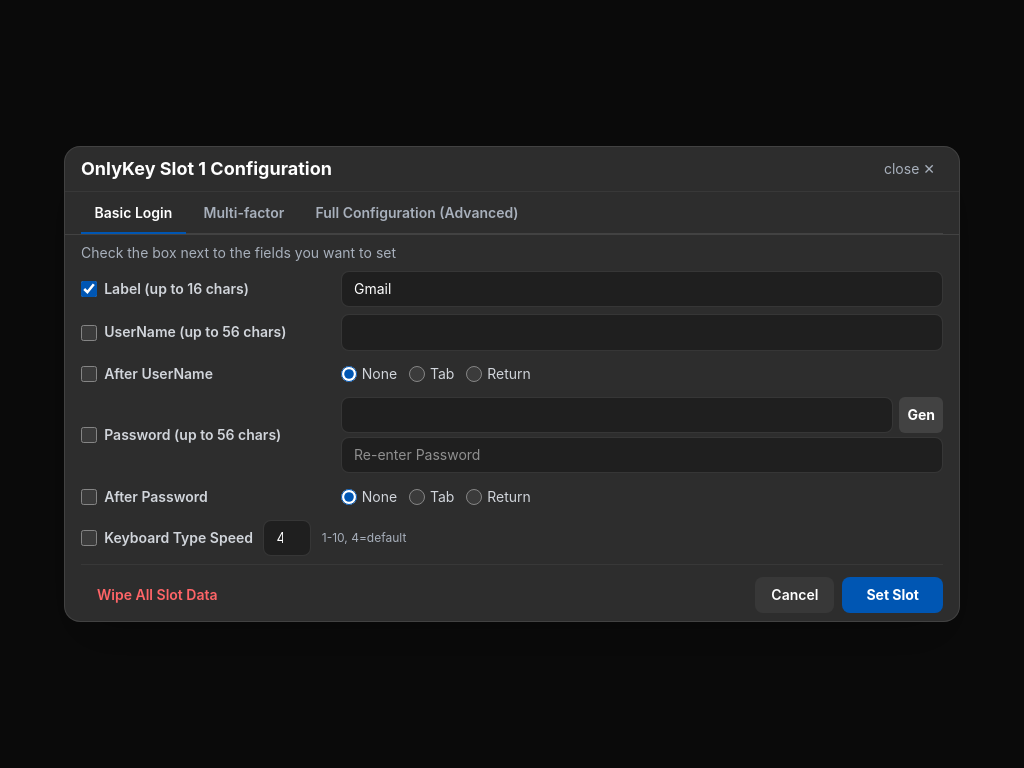
Test: SlotEditor › shows a save error and keeps the editor open
Click the button "Set Slot": (893, 595) [842,577,943,613]
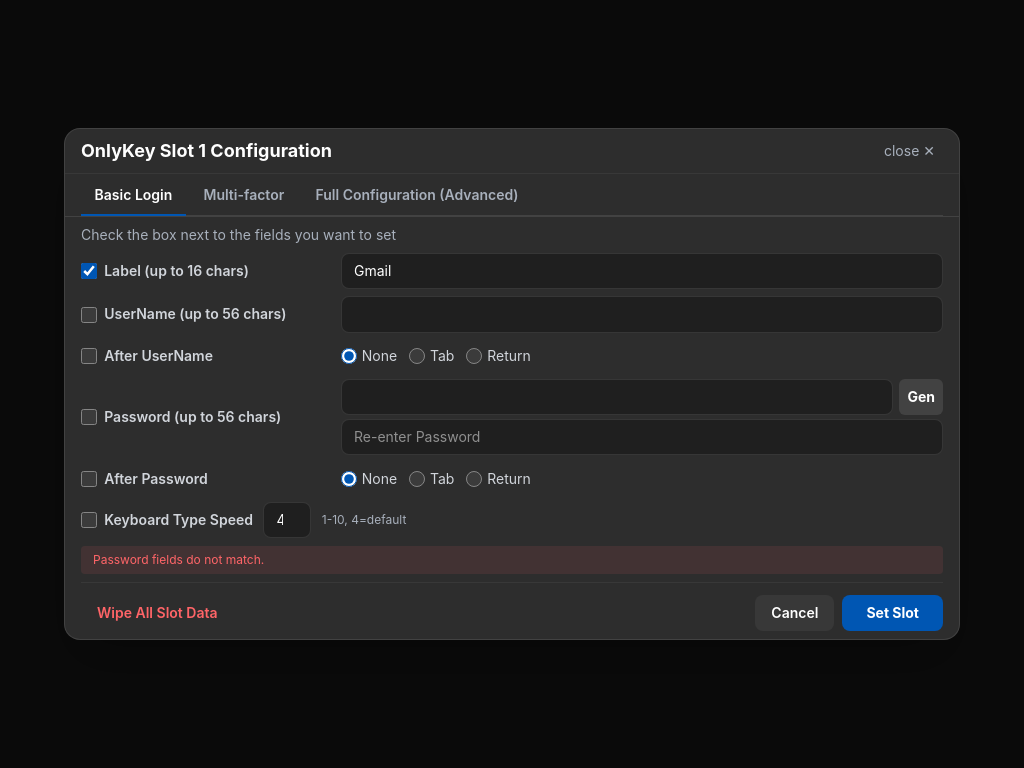
Result: the text "Password fields do not match." is shown at [81,546,943,574]
